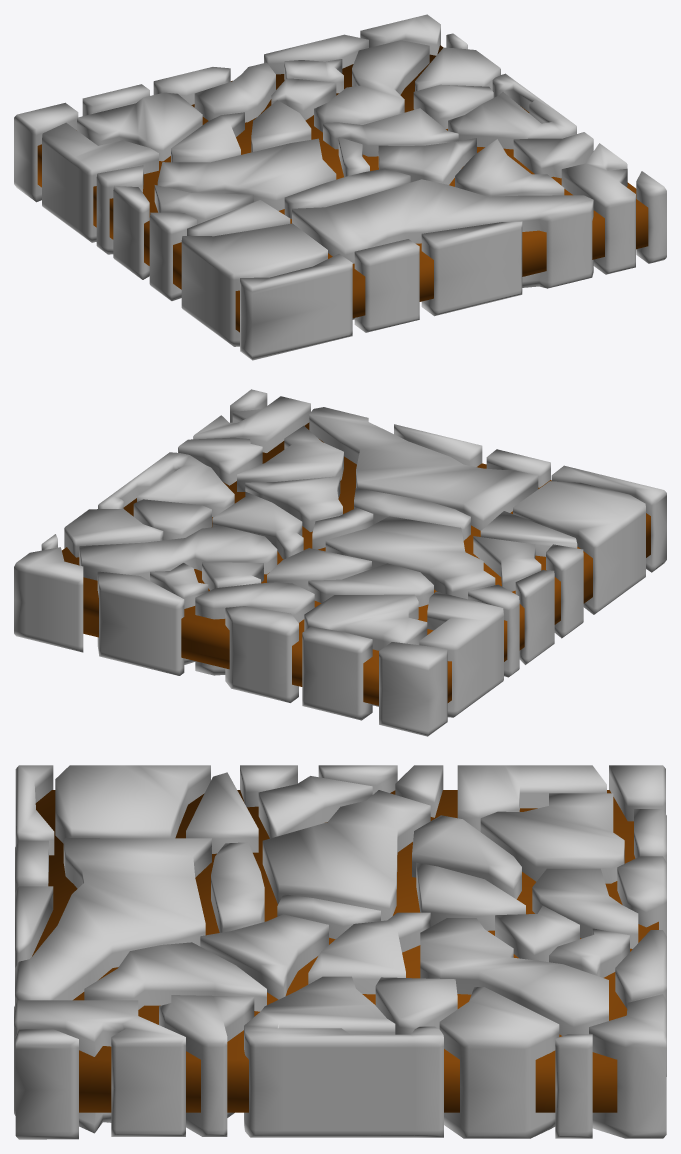
Rendered from Platform_Dissolve_lowres_uv.fbx.
3 renders of one model, top to bottom at view 1: azimuth 30°, elevation 25°; view 2: azimuth 150°, elevation 25°; view 3: azimuth 270°, elevation 25°, orthographic. The views are drawn at different scales.
Visible parts, largest first — view 1: Empty_Mesh; view 2: Empty_Mesh; view 3: Empty_Mesh.
Part boxes in pixels (bbox=[...]): Empty_Mesh: bbox=[14, 14, 666, 360]; Empty_Mesh: bbox=[14, 389, 666, 736]; Empty_Mesh: bbox=[14, 765, 666, 1139].
Size of the model in its own units: 3.16 by 0.532 by 3.15.
